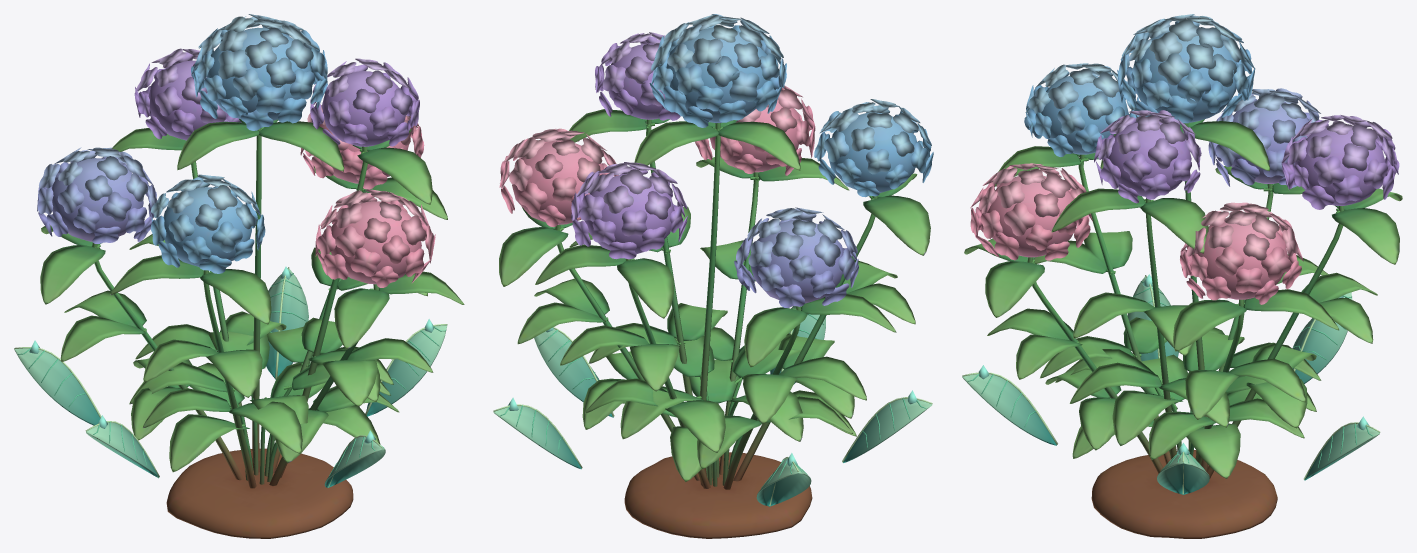
File: enchanted-hydrangea.glb
3 renders of one model, left to right at view 1: azimuth 30°, elevation 25°; view 2: azimuth 150°, elevation 25°; view 3: azimuth 270°, elevation 25°, orthographic.
Parts seen in each view (by area): view 1: hydrangea_body, enchanted-hydrangea-sculpted-details; view 2: hydrangea_body, enchanted-hydrangea-sculpted-details; view 3: hydrangea_body, enchanted-hydrangea-sculpted-details.
Boxes of the visible parts, <box> form: hydrangea_body: <box>37,14,464,538</box>; enchanted-hydrangea-sculpted-details: <box>14,266,447,487</box>; hydrangea_body: <box>499,14,933,538</box>; enchanted-hydrangea-sculpted-details: <box>493,306,932,506</box>; hydrangea_body: <box>964,14,1402,538</box>; enchanted-hydrangea-sculpted-details: <box>962,274,1380,494</box>.
Bounding box in the file's own units: 0.8507 × 1.01 × 0.845.
2 materials, 1 textured.
